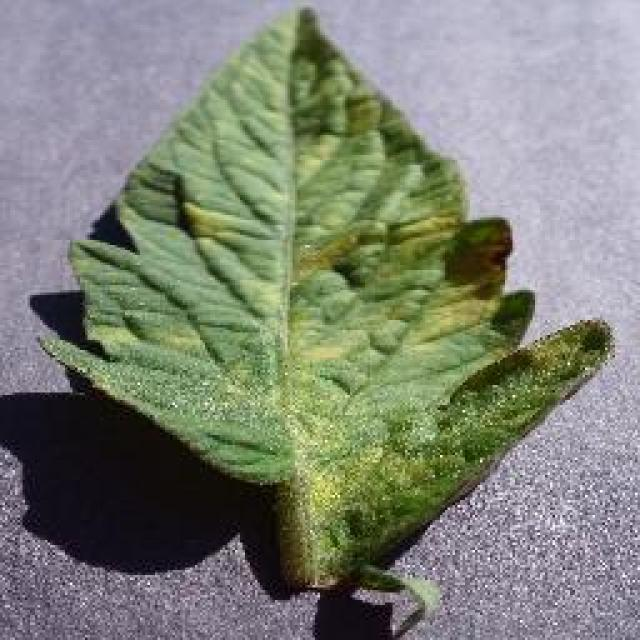Tomato mold leaf: (49, 4, 611, 556)
